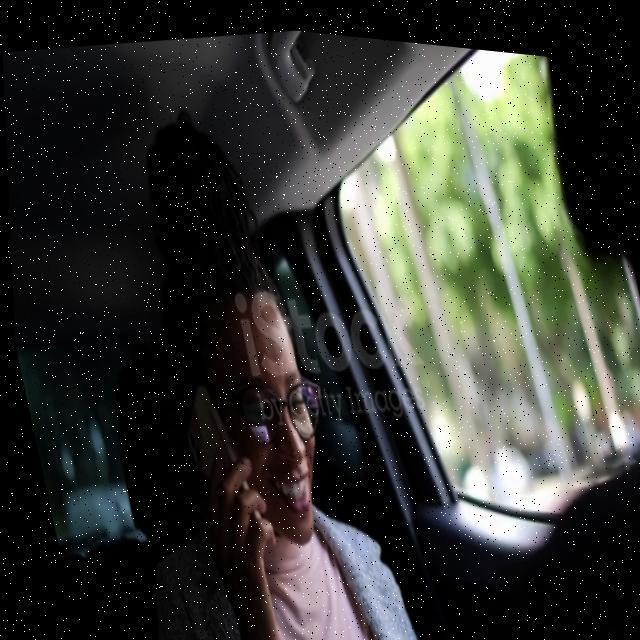PhoneCall: (170, 371, 262, 551)
